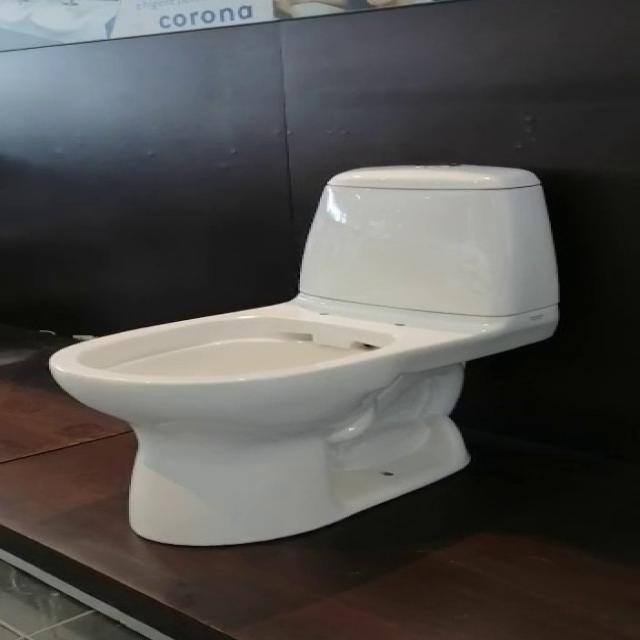toilet: (45, 161, 560, 546)
